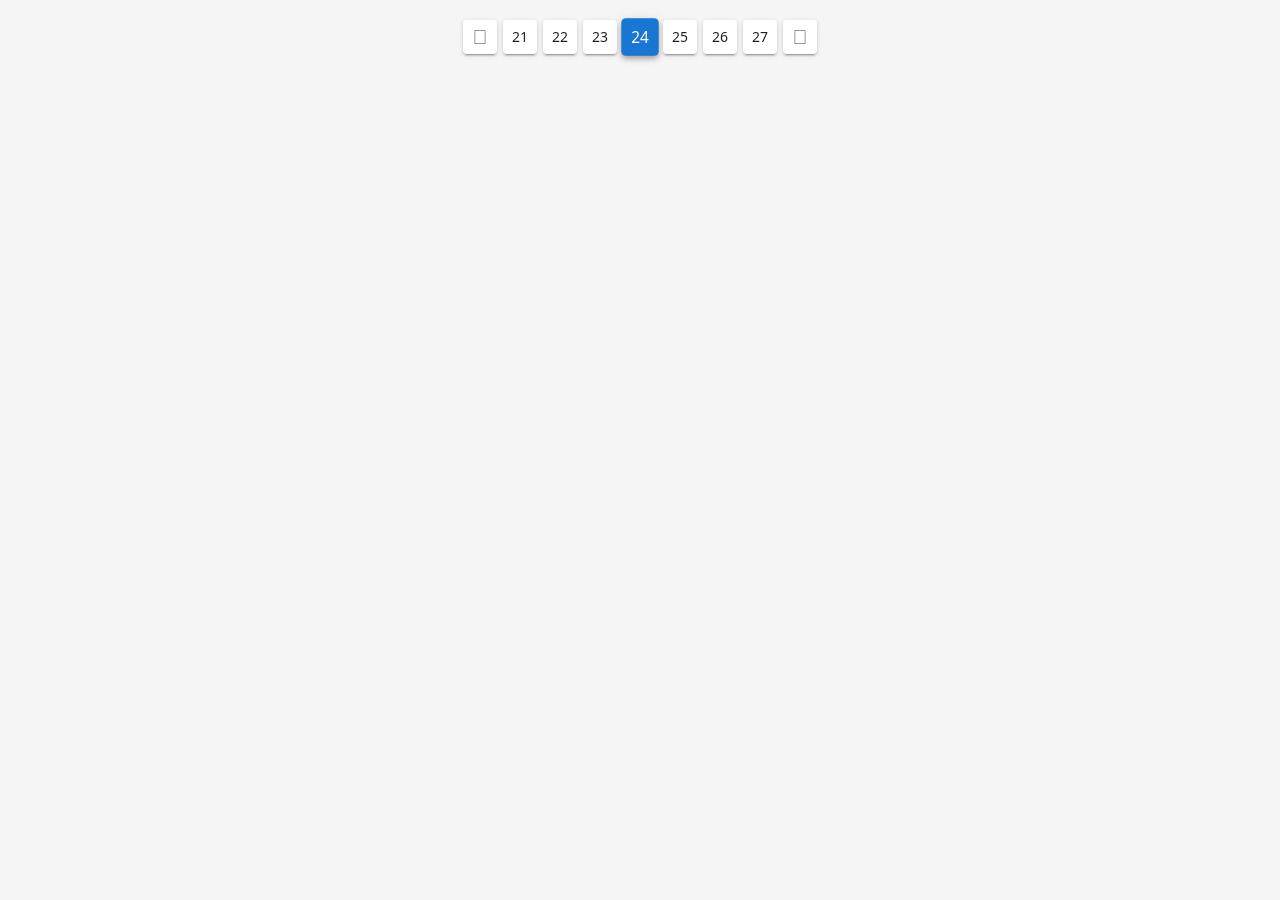
Scenario: ExtendedPagination page input dialog (Requirements 8.39-8.45) › [AC 8.40] does not move for  (empty) and shows the error without rounding
Click the button named "ページ数を入力して移動": [640, 37] box [621,18,659,56]
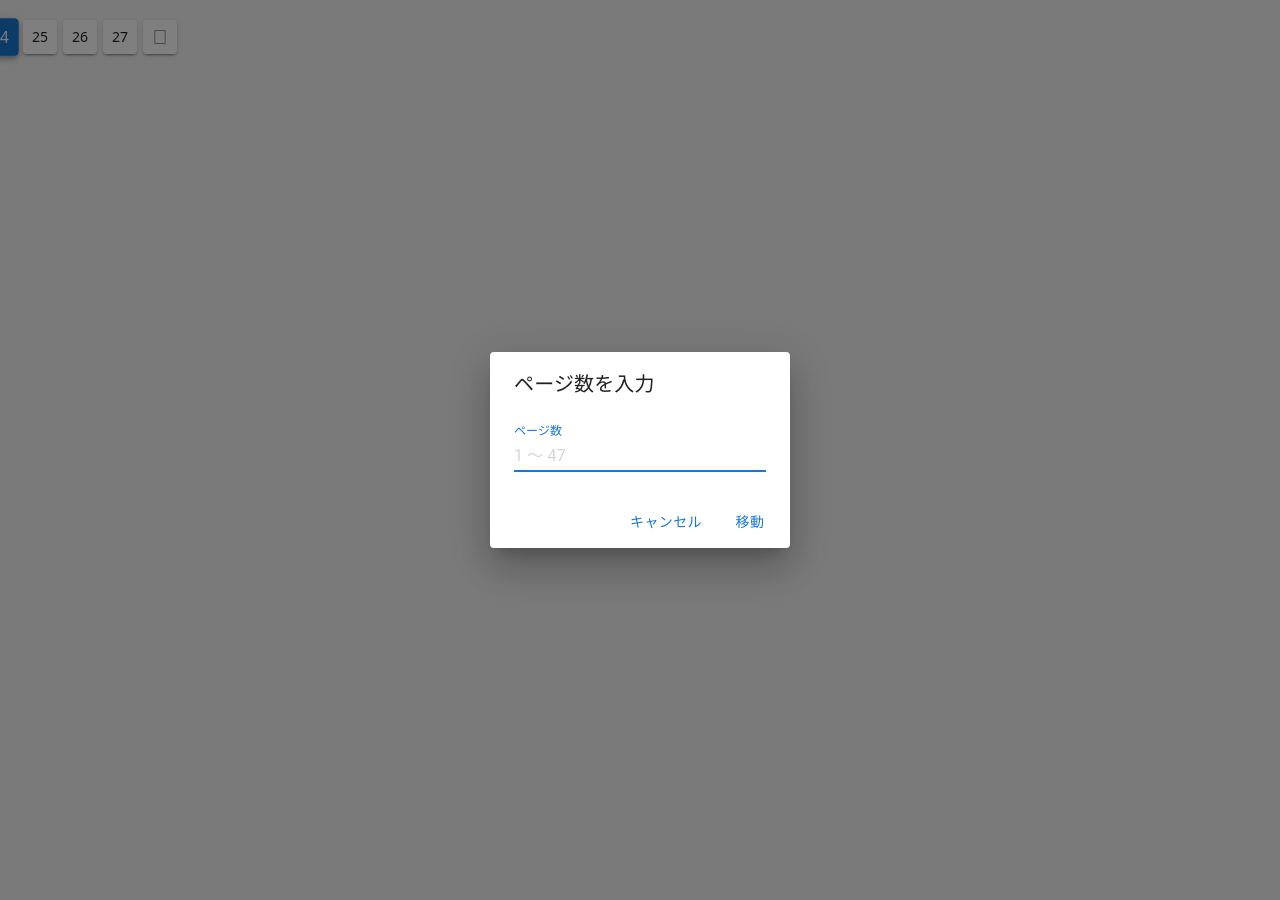
Click the button "移動": [750, 522] box [718,504,782,540]
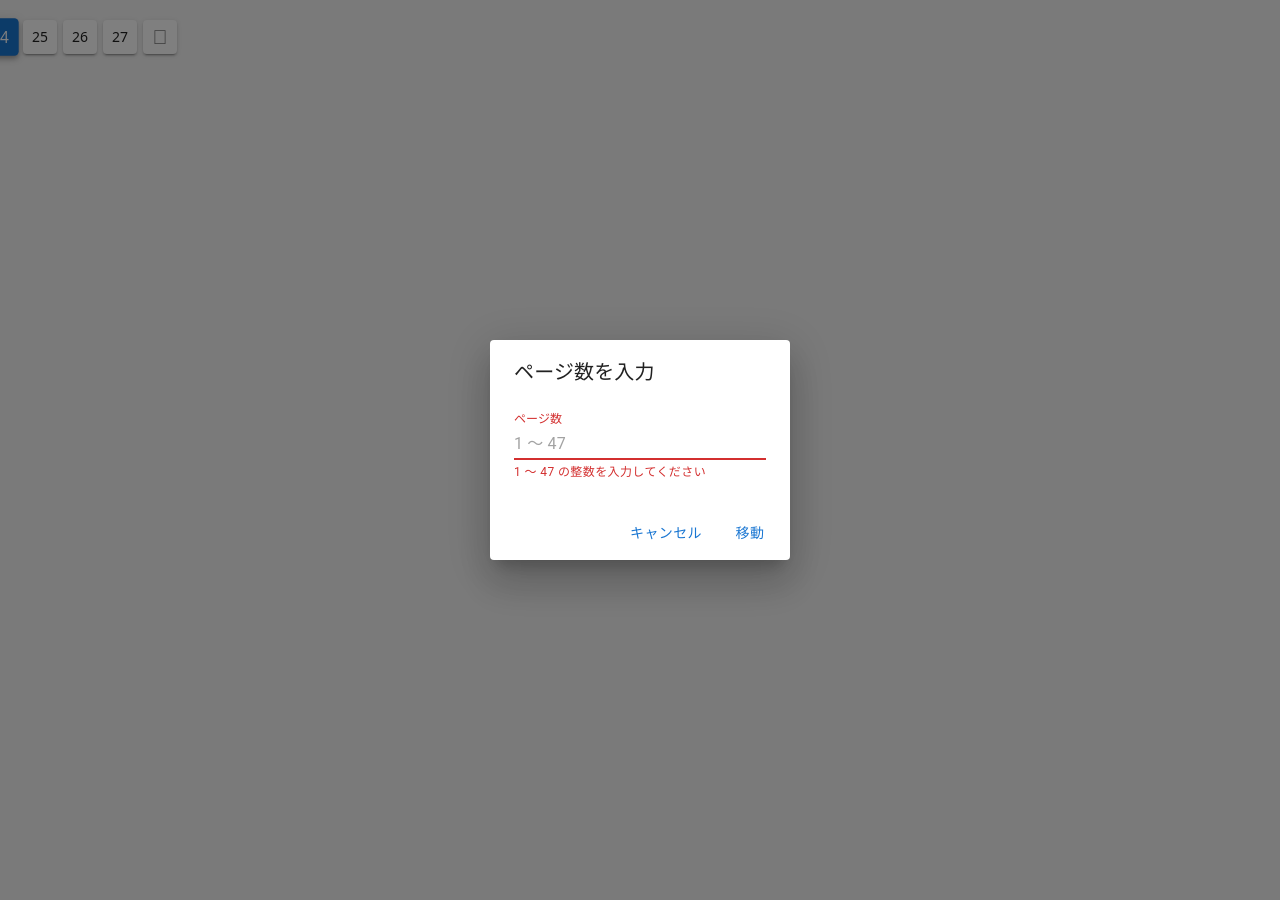
expect the dialog "ページ数を入力" is shown: met, box [490,340,790,560]
expect the text "1 〜 47 の整数を入力してください" is shown: met, box [514,465,706,479]
